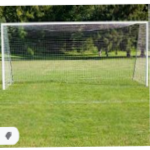goals: (1, 20, 150, 91)
